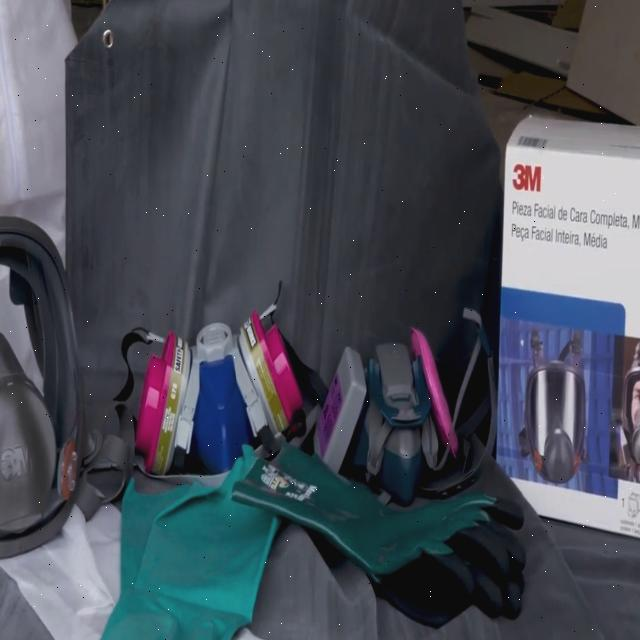Gloves: (233, 442, 526, 598), (114, 447, 281, 640), (120, 477, 232, 640), (324, 542, 526, 629)
Mask: (0, 216, 86, 561), (132, 308, 306, 476), (310, 323, 462, 504)
